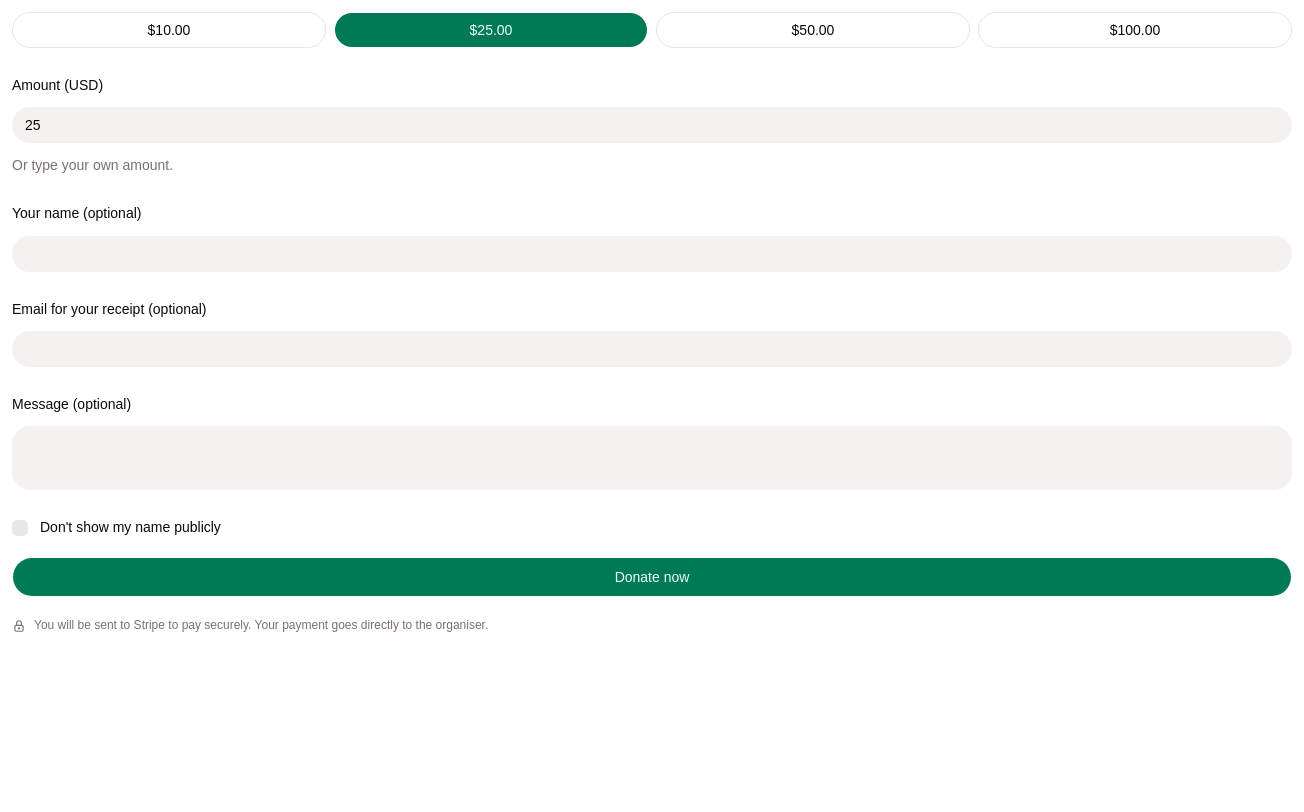
Test: DonatePanel › shows the server's error in an alert
The image size is (1304, 812).
Step 1. Click the button "Donate now" → (652, 577), box [12,557,1292,597]
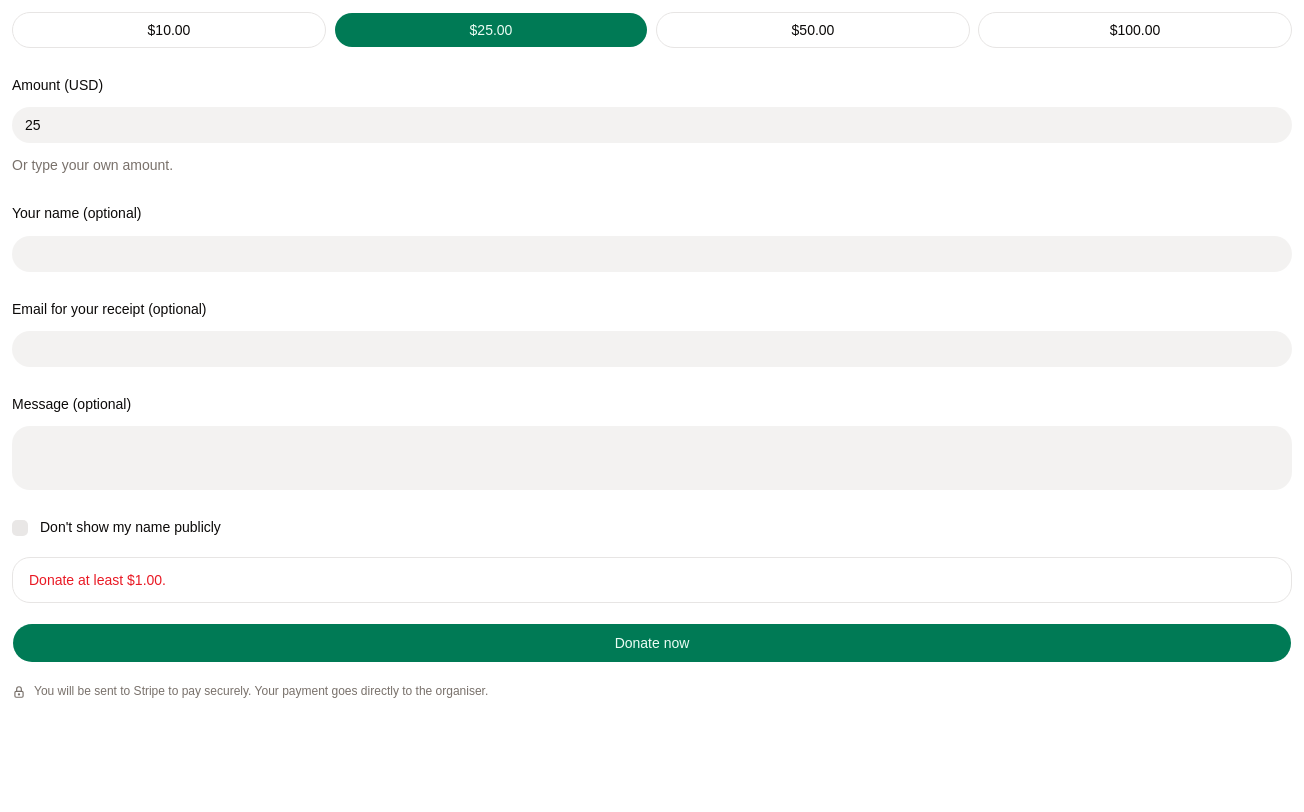
Result: the message reads "Donate at least $1.00." at [29,572,166,588]
